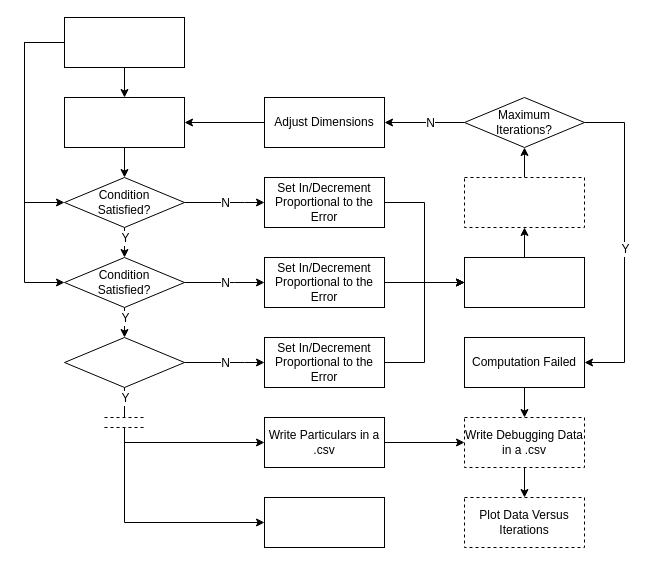
Image size: 650x565. Some labels were removed from this diagram. The centre of each missing label's shape, as x and y in pixels:
(Re)calculate Other Dimensions: pixel 124 122
Goal Satisfied?: pixel 124 362
Increment Iteration Number: pixel 524 282
Input Data: pixel 124 42
Return Particulars: pixel 324 522
Write Error Type and Data to Debugging Log Dataframe: pixel 524 202
